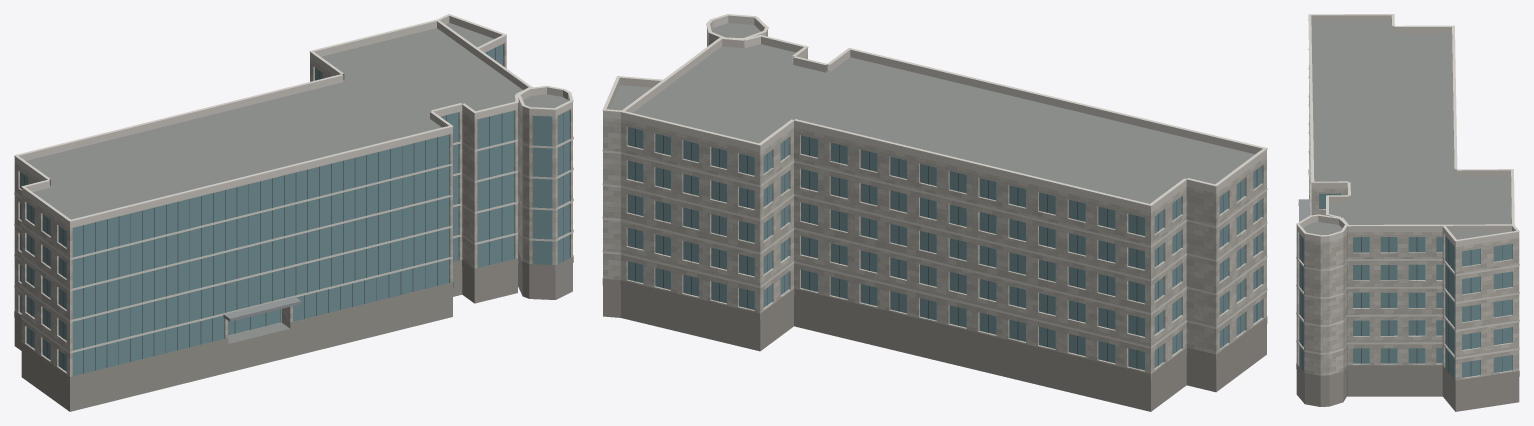
3 renders of one model, left to right at view 1: azimuth 30°, elevation 25°; view 2: azimuth 150°, elevation 25°; view 3: azimuth 270°, elevation 25°, orthographic. The views are drawn at different scales.
Parts seen in each view (by area): view 1: orientalMed__glass, orientalMed__roof, orientalMed__base, orientalMed__wall, orientalMed__trim, orientalMed__parapet, orientalMed__frame, orientalMed__canopy; view 2: orientalMed__wall, orientalMed__roof, orientalMed__glass, orientalMed__base, orientalMed__trim, orientalMed__parapet, orientalMed__frame; view 3: orientalMed__roof, orientalMed__wall, orientalMed__glass, orientalMed__base, orientalMed__trim, orientalMed__parapet, orientalMed__frame, orientalMed__canopy.
Boxes of the visible parts, x1,y1,x2,y2 form: orientalMed__glass: [20, 44, 569, 376]; orientalMed__roof: [26, 22, 568, 343]; orientalMed__base: [14, 252, 573, 411]; orientalMed__wall: [14, 42, 572, 382]; orientalMed__trim: [14, 14, 573, 353]; orientalMed__parapet: [14, 16, 572, 227]; orientalMed__frame: [24, 47, 563, 373]; orientalMed__canopy: [223, 297, 301, 321]; orientalMed__wall: [603, 32, 1266, 380]; orientalMed__roof: [609, 23, 1254, 203]; orientalMed__glass: [627, 127, 1261, 370]; orientalMed__base: [602, 278, 1267, 411]; orientalMed__trim: [602, 14, 1267, 348]; orientalMed__parapet: [603, 15, 1266, 212]; orientalMed__frame: [635, 128, 1257, 368]; orientalMed__roof: [1303, 21, 1511, 239]; orientalMed__wall: [1296, 59, 1519, 385]; orientalMed__glass: [1299, 193, 1512, 379]; orientalMed__base: [1296, 169, 1519, 411]; orientalMed__trim: [1296, 14, 1519, 359]; orientalMed__parapet: [1296, 15, 1519, 247]; orientalMed__frame: [1302, 194, 1502, 376]; orientalMed__canopy: [1298, 199, 1310, 221].
Bounding box in the file's own units: 66.63 × 23.35 × 27.69.
9 materials, 1 textured.
